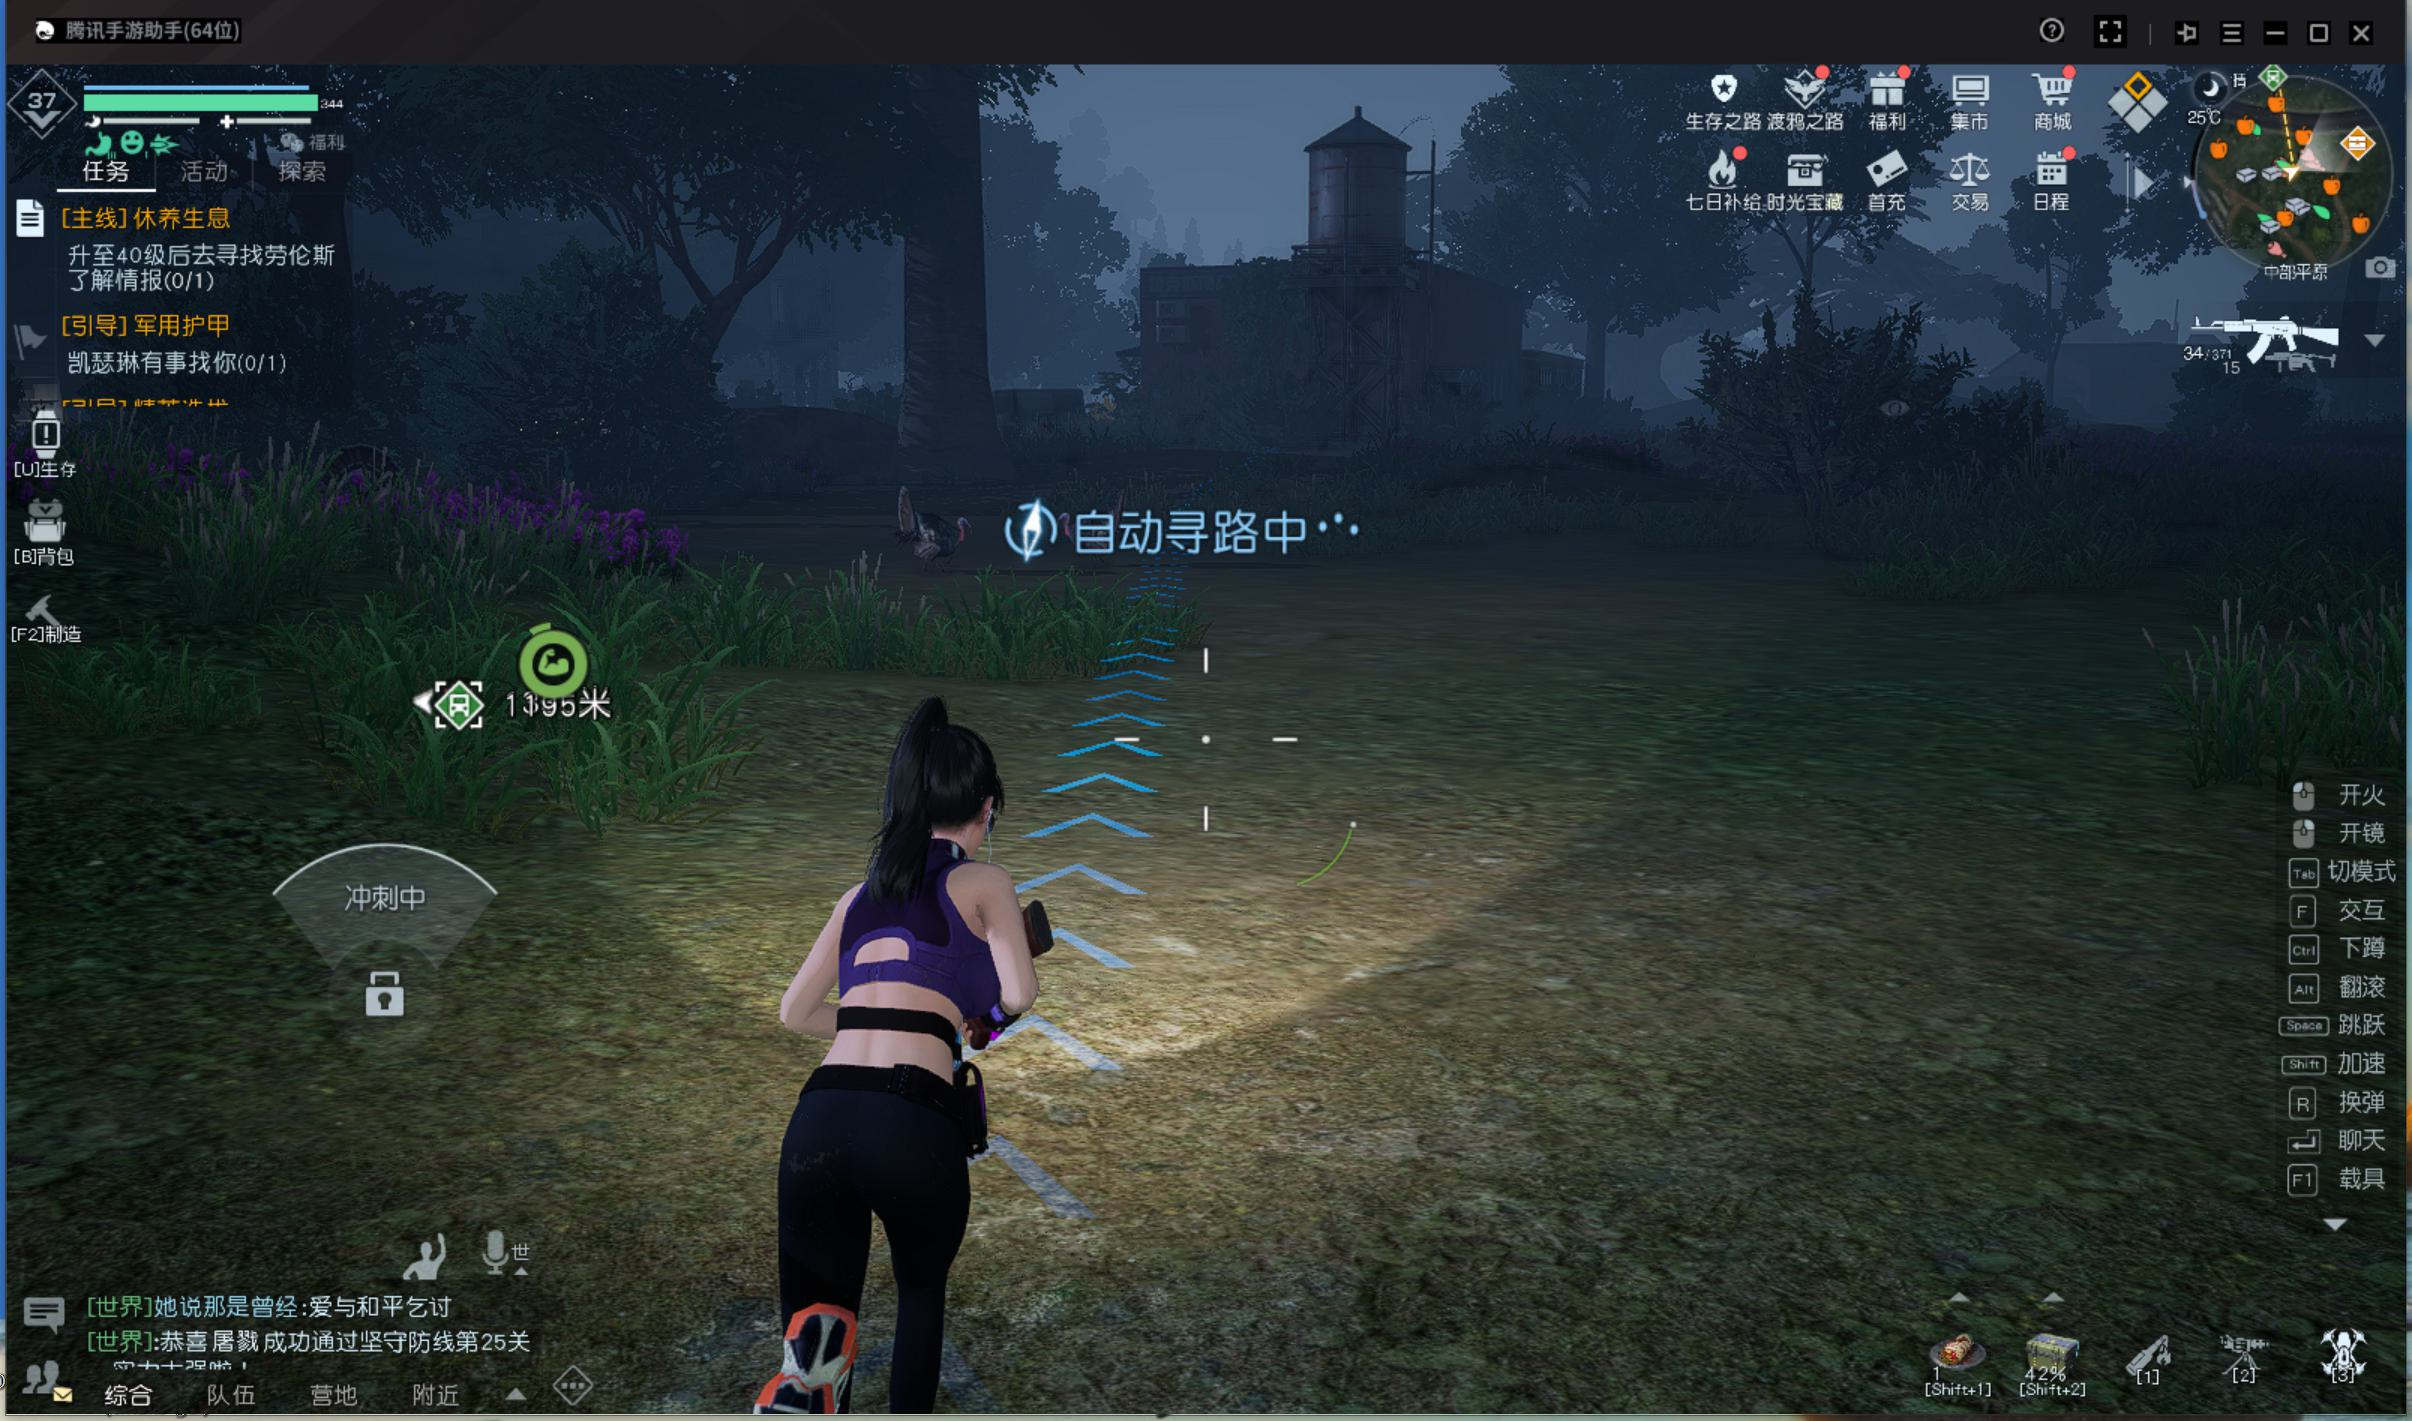tree: (881, 206, 1001, 509)
